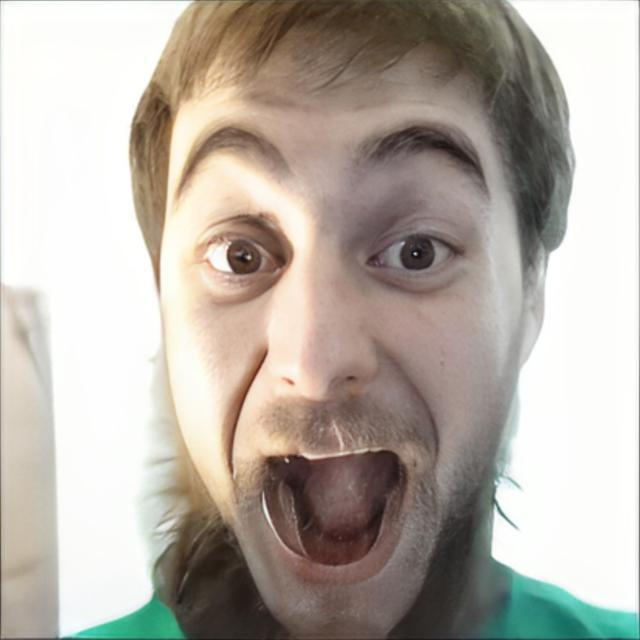surprise: (155, 19, 528, 640)
